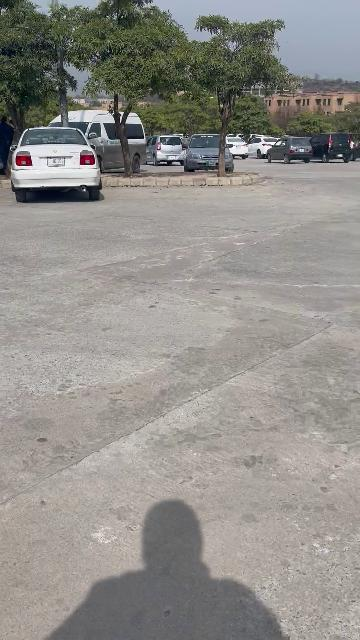plate: (47, 157, 65, 165)
